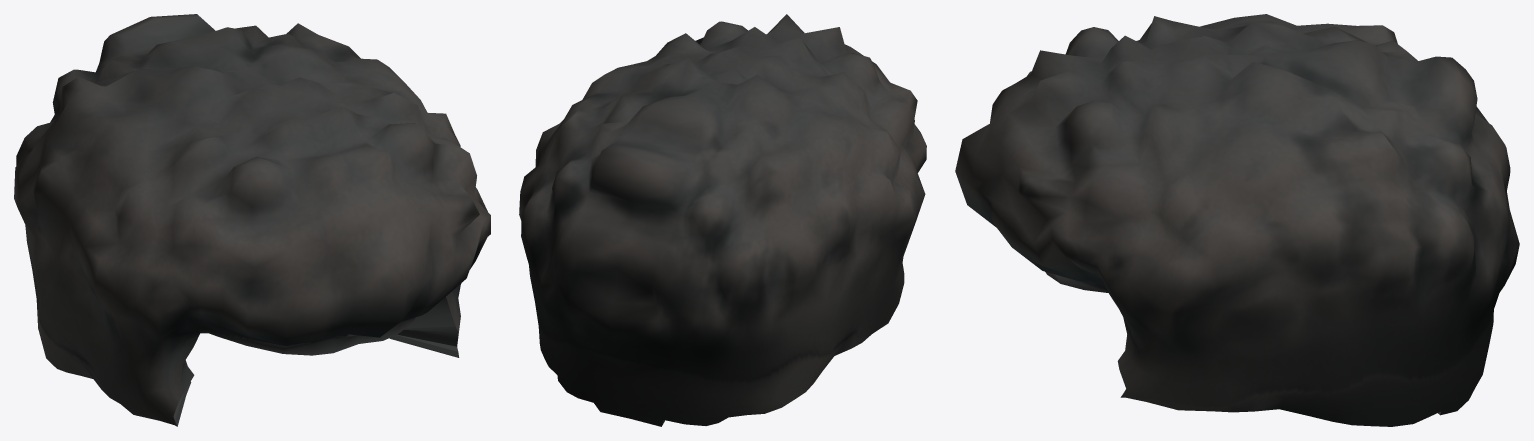
Rendered from Hair_M01.fbx.
The picture shows the model from 3 angles, left to right: view 1: azimuth 30°, elevation 25°; view 2: azimuth 150°, elevation 25°; view 3: azimuth 270°, elevation 25°; orthographic projection. The views are drawn at different scales.
Parts seen in each view (by area): view 1: Hair_M01; view 2: Hair_M01; view 3: Hair_M01.
Part boxes in pixels (x1,y1,x2,y2): Hair_M01: [14, 14, 490, 426]; Hair_M01: [519, 14, 926, 426]; Hair_M01: [955, 14, 1519, 426].
Size of the model in its own units: 3.24 by 2.7 by 4.1.
